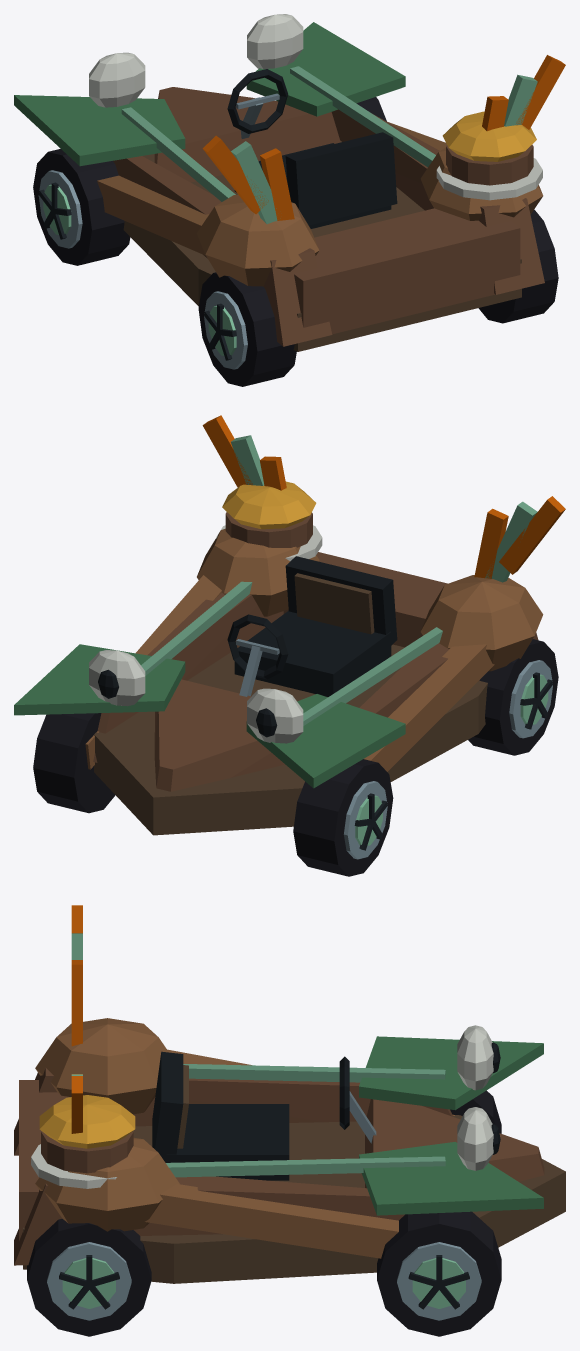
Rendered from kart.glb.
3 views of the same model, one above another, from view 1: azimuth 30°, elevation 25°; view 2: azimuth 150°, elevation 25°; view 3: azimuth 270°, elevation 25° (orthographic). The views are drawn at different scales.
Parts seen in each view (by area): view 1: identity-nature-nature-root-cradle-and-leaf-bow, identity-nature-driver-cockpit, wheel-front-left, wheel-rear-left, identity-nature-motif-feathers, identity-nature-motif-food, identity-nature-motif-eyes, wheel-rear-right; view 2: identity-nature-nature-root-cradle-and-leaf-bow, identity-nature-driver-cockpit, wheel-front-left, identity-nature-motif-feathers, wheel-rear-left, wheel-front-right, identity-nature-motif-food, identity-nature-motif-eyes; view 3: identity-nature-nature-root-cradle-and-leaf-bow, wheel-front-right, wheel-rear-right, identity-nature-driver-cockpit, identity-nature-motif-food, identity-nature-motif-eyes, identity-nature-motif-feathers, wheel-front-left.
Part boxes in pixels (box(x1,y1,x2,y2)): identity-nature-nature-root-cradle-and-leaf-bow: box(14, 22, 544, 351); identity-nature-driver-cockpit: box(227, 69, 397, 228); wheel-front-left: box(33, 148, 130, 265); wheel-rear-left: box(198, 272, 296, 386); identity-nature-motif-feathers: box(202, 55, 565, 224); identity-nature-motif-food: box(436, 111, 542, 200); identity-nature-motif-eyes: box(89, 14, 303, 107); wheel-rear-right: box(478, 209, 558, 323); identity-nature-nature-root-cradle-and-leaf-bow: box(14, 528, 543, 835); identity-nature-driver-cockpit: box(227, 556, 397, 696); wheel-front-left: box(293, 759, 393, 876); identity-nature-motif-feathers: box(202, 415, 565, 582); wheel-rear-left: box(468, 639, 558, 755); wheel-front-right: box(33, 713, 115, 813); identity-nature-motif-food: box(216, 481, 322, 561); identity-nature-motif-eyes: box(89, 650, 303, 743); identity-nature-nature-root-cradle-and-leaf-bow: box(14, 1018, 565, 1283); wheel-front-right: box(377, 1211, 501, 1336); wheel-rear-right: box(27, 1218, 151, 1336); identity-nature-driver-cockpit: box(152, 1051, 376, 1180); identity-nature-motif-food: box(31, 1095, 135, 1188); identity-nature-motif-eyes: box(457, 1025, 500, 1170); identity-nature-motif-feathers: box(71, 905, 82, 1133); wheel-front-left: box(450, 1090, 501, 1133).
Size of the model in its own units: 2.18 by 1.47 by 2.75.
